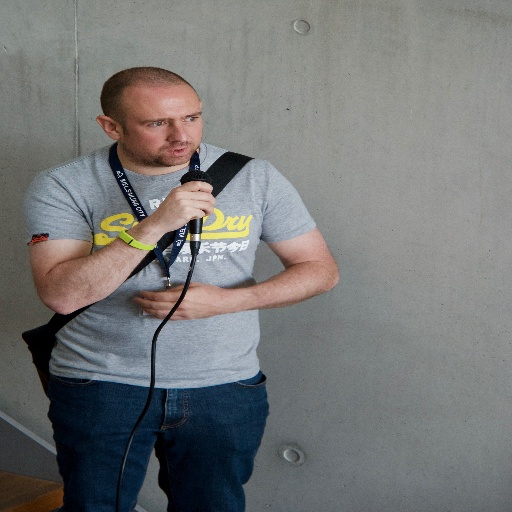hand: (130, 280, 235, 321), (144, 185, 212, 231)
